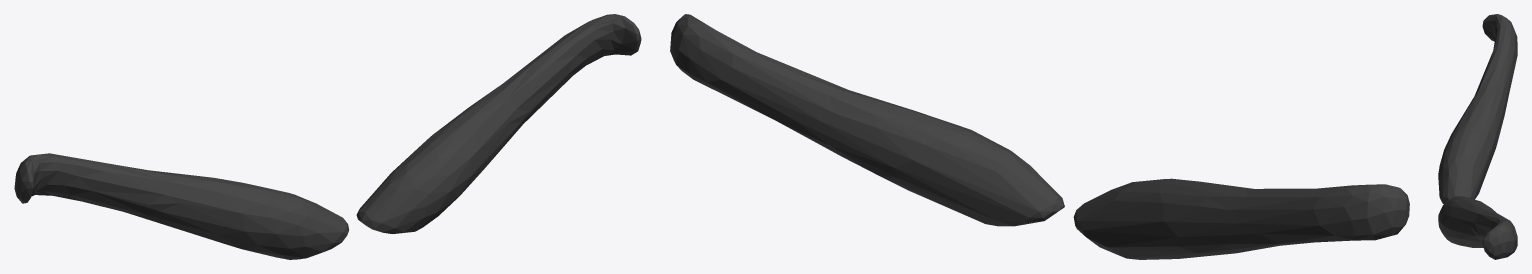
File: m_adductor_longus.glb
3 renders of one model, left to right at view 1: azimuth 30°, elevation 25°; view 2: azimuth 150°, elevation 25°; view 3: azimuth 270°, elevation 25°, orthographic. The views are drawn at different scales.
Visible parts, largest first — view 1: m_adductor_longus; view 2: m_adductor_longus; view 3: m_adductor_longus.
Part boxes in pixels (box(x1,y1,x2,y2)): m_adductor_longus: box(14, 14, 641, 259); m_adductor_longus: box(670, 14, 1409, 259); m_adductor_longus: box(1438, 14, 1517, 259).
Size of the model in its own units: 0.00409 by 0.000857 by 0.000617.
Materials: 1 (1 with a texture image).
